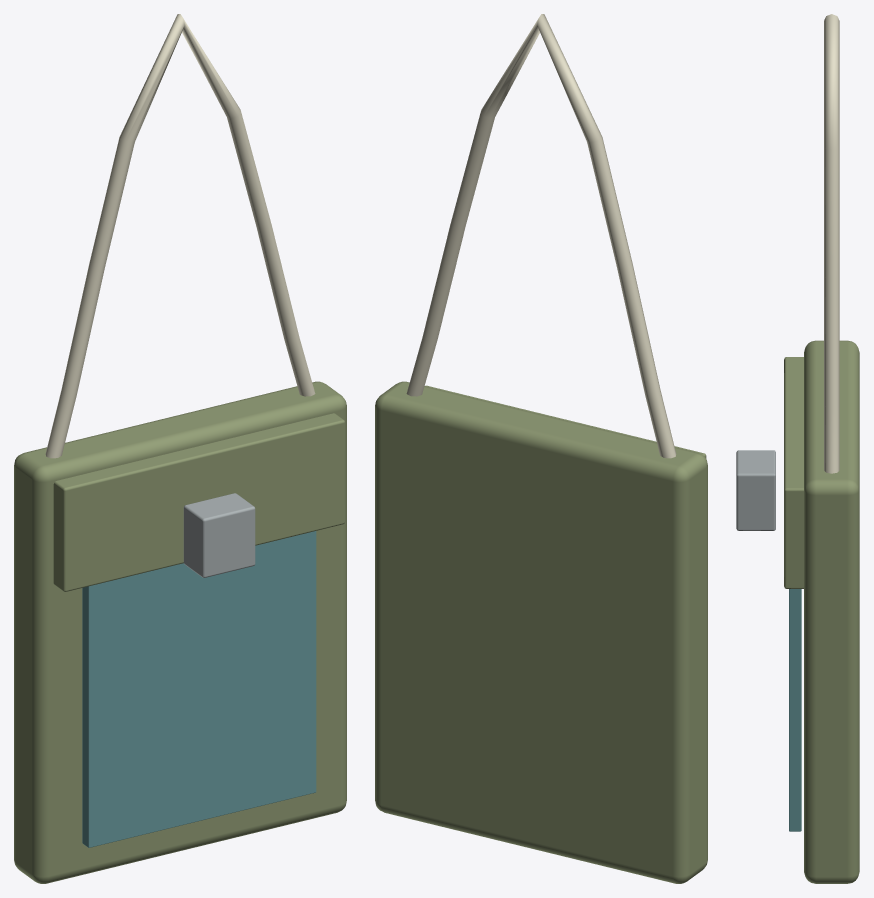
Rendered from backpacks-and-expedition-storage-map-case-02df0fea__21078.glb.
The picture shows the model from 3 angles, left to right: view 1: azimuth 30°, elevation 25°; view 2: azimuth 150°, elevation 25°; view 3: azimuth 270°, elevation 25°; orthographic projection. The views are drawn at different scales.
Parts seen in each view (by area): view 1: map-case, flap/canvas; view 2: map-case; view 3: map-case, flap/canvas.
Boxes of the visible parts, bbox=[...] form: map-case: bbox=[14, 14, 346, 883]; flap/canvas: bbox=[53, 413, 345, 591]; map-case: bbox=[375, 14, 707, 883]; map-case: bbox=[736, 14, 859, 883]; flap/canvas: bbox=[784, 357, 803, 588].
Bounding box in the file's own units: 0.22 × 0.555 × 0.0775.
